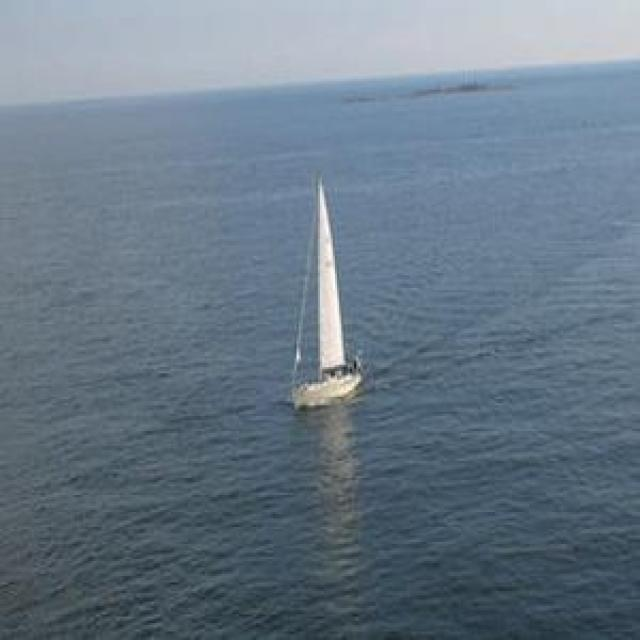sailboat: (283, 163, 369, 415)
